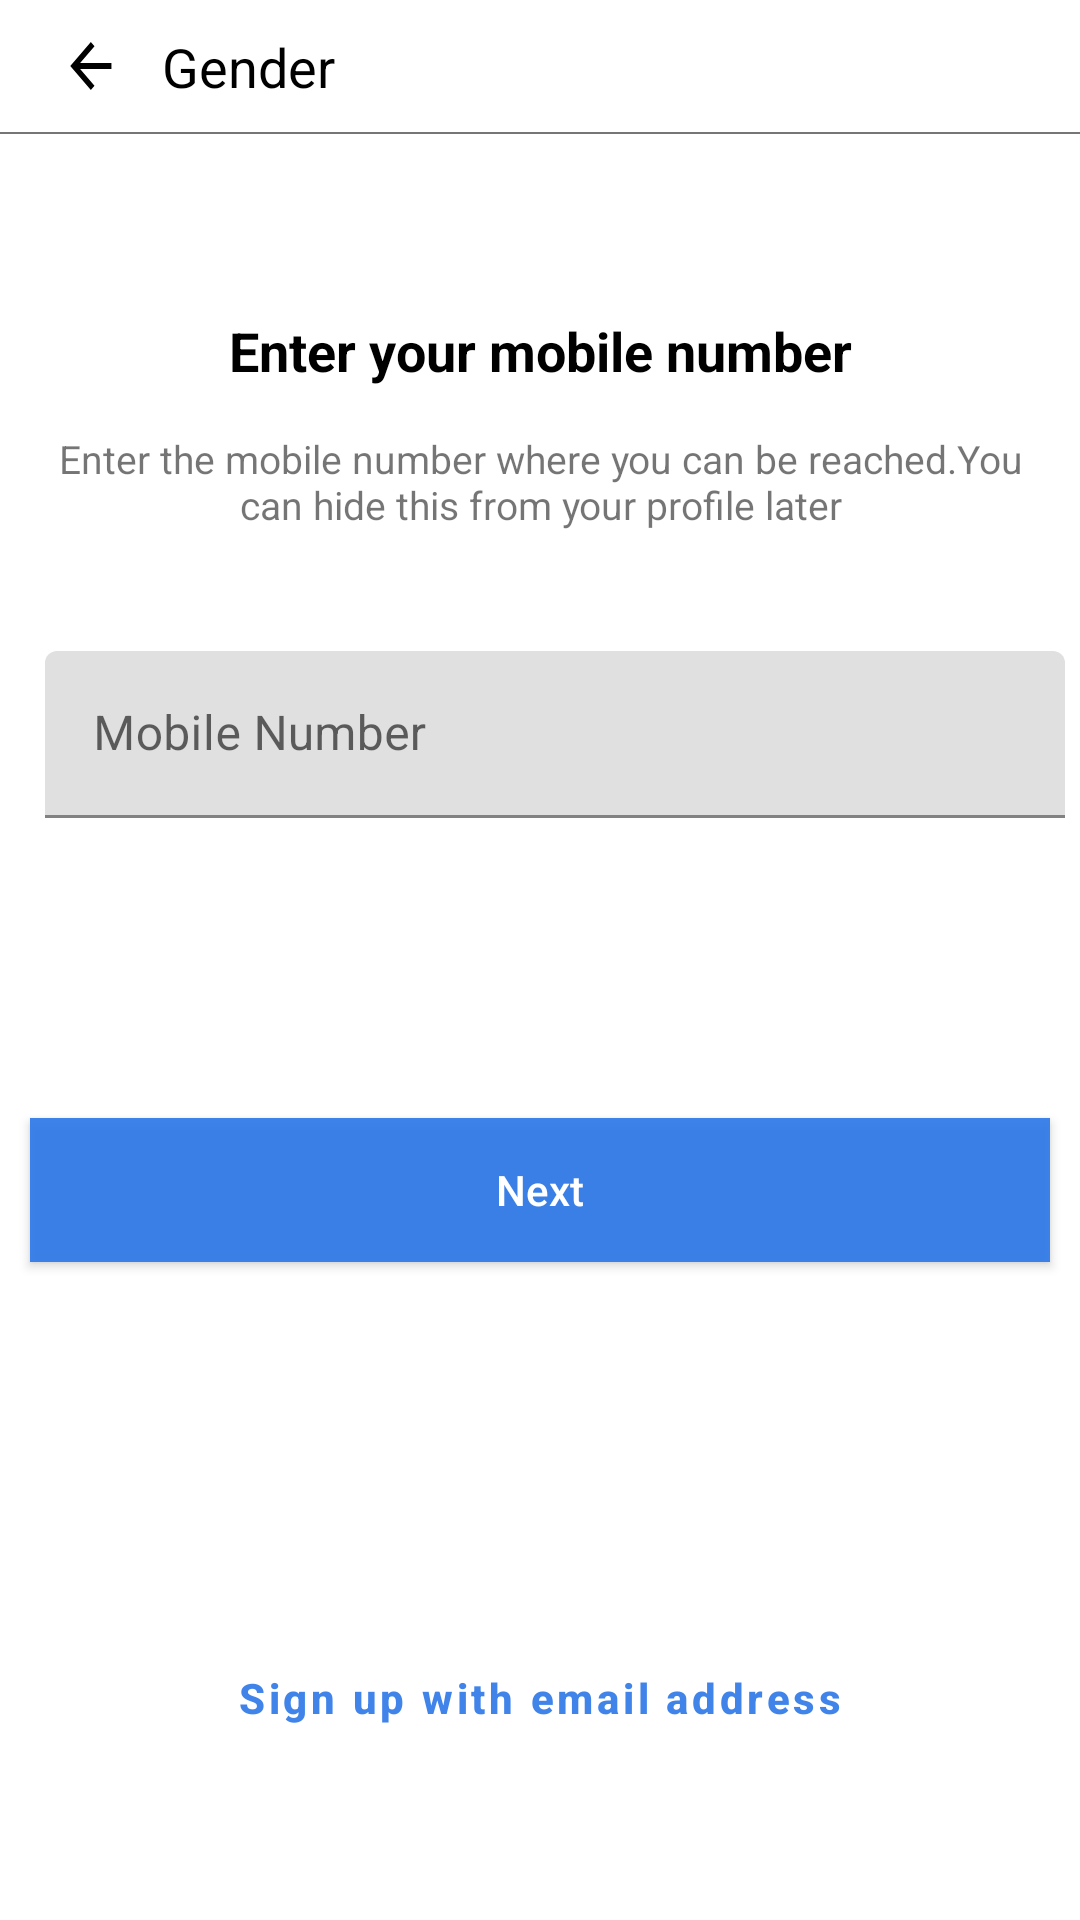

Icon click points for this 1080px x 1920px phone screenshot, format [x,y]:
arrow back: [91,66]
